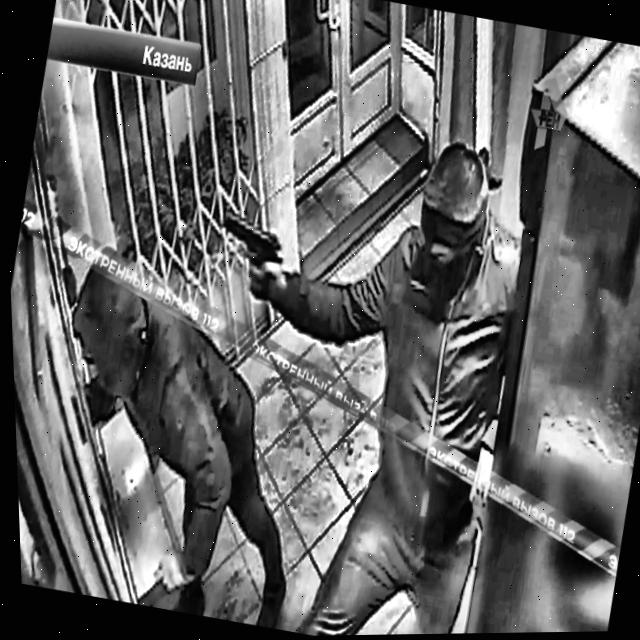robbery: (62, 127, 524, 636)
